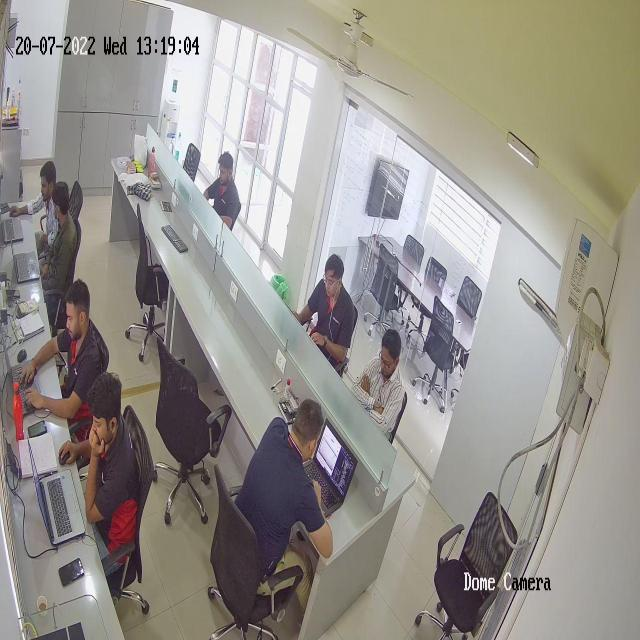chair: (412, 484, 520, 640), (202, 470, 299, 640), (148, 336, 233, 528), (124, 203, 176, 367), (414, 292, 462, 419), (363, 238, 407, 352), (453, 266, 482, 318), (181, 137, 203, 186), (423, 247, 448, 286), (406, 227, 424, 270)
keyboard: (161, 217, 190, 259)
laptop: (25, 436, 90, 553), (296, 412, 355, 521), (4, 334, 48, 418), (9, 236, 42, 284), (0, 205, 27, 246)
person: (231, 388, 339, 618), (51, 372, 148, 590), (26, 278, 106, 450), (34, 178, 82, 331), (298, 246, 357, 370), (354, 319, 406, 431), (200, 145, 242, 232)
phone: (55, 551, 86, 590), (25, 417, 50, 441), (4, 284, 23, 306), (0, 195, 13, 216)
